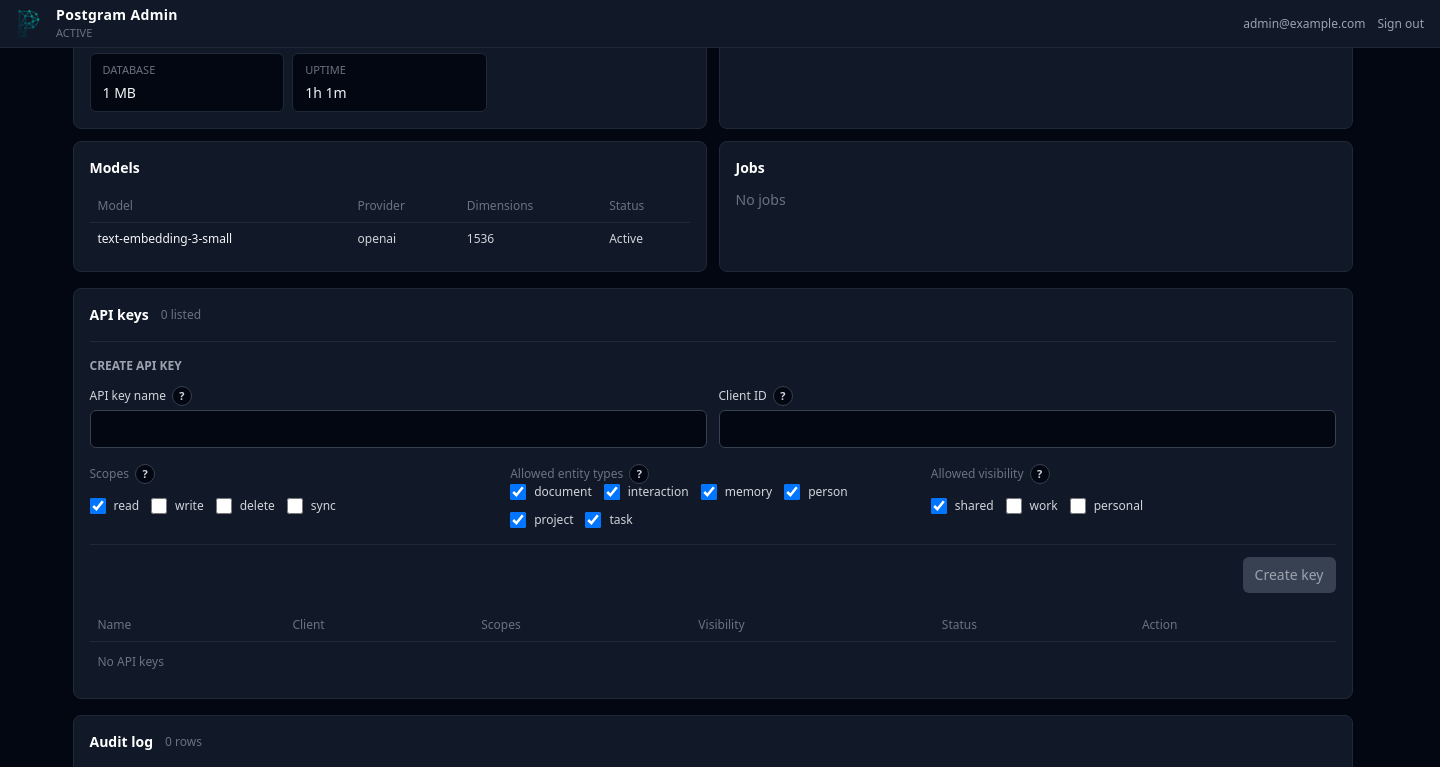
Test case: Admin operations dashboard › uses the existing step-up flow when key creation requires recent admin step-up
(page scrolled)
Type "admin-beta" into the field labelled "API key name". click: (398, 428)
box: [90, 410, 706, 448]
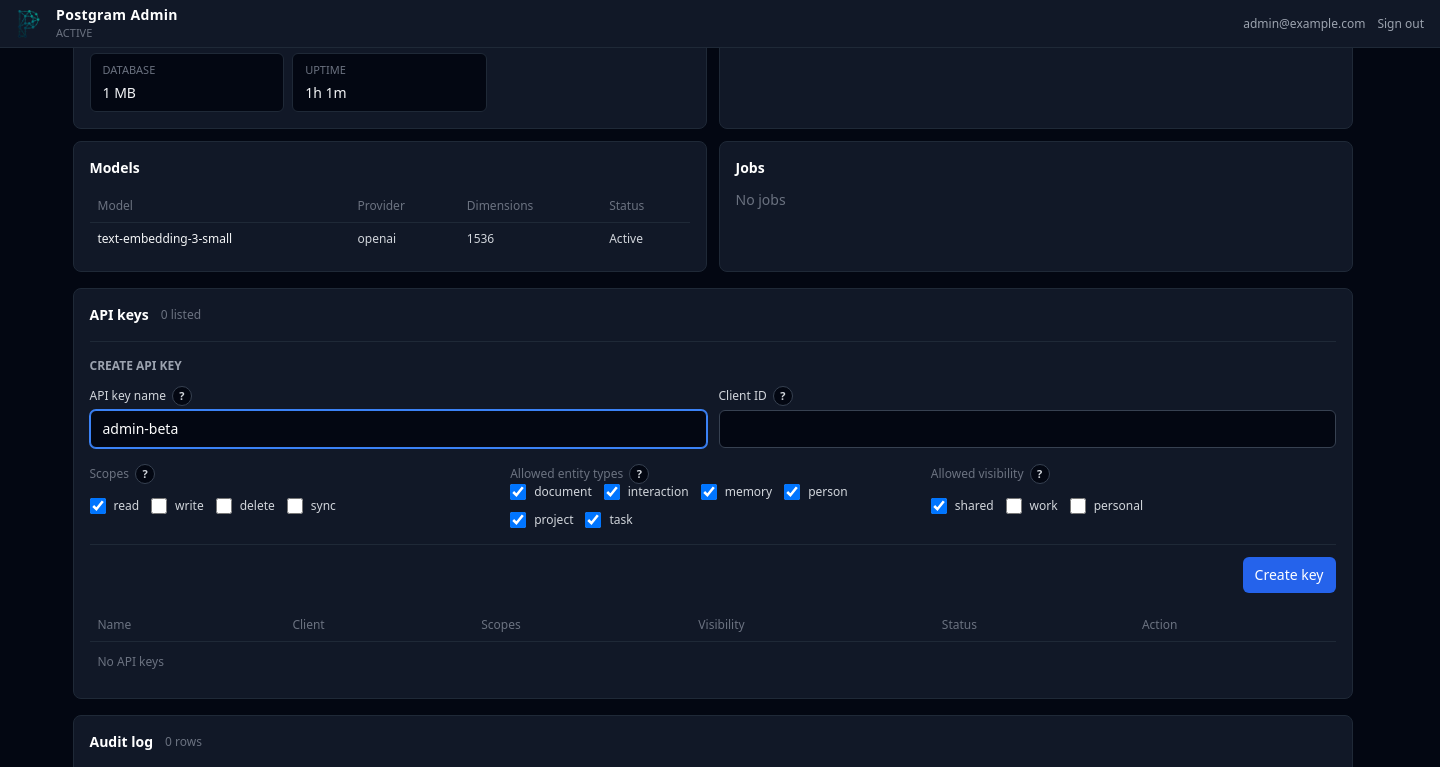
Click the button "Create key". click: (1289, 574)
box: [1243, 556, 1336, 592]
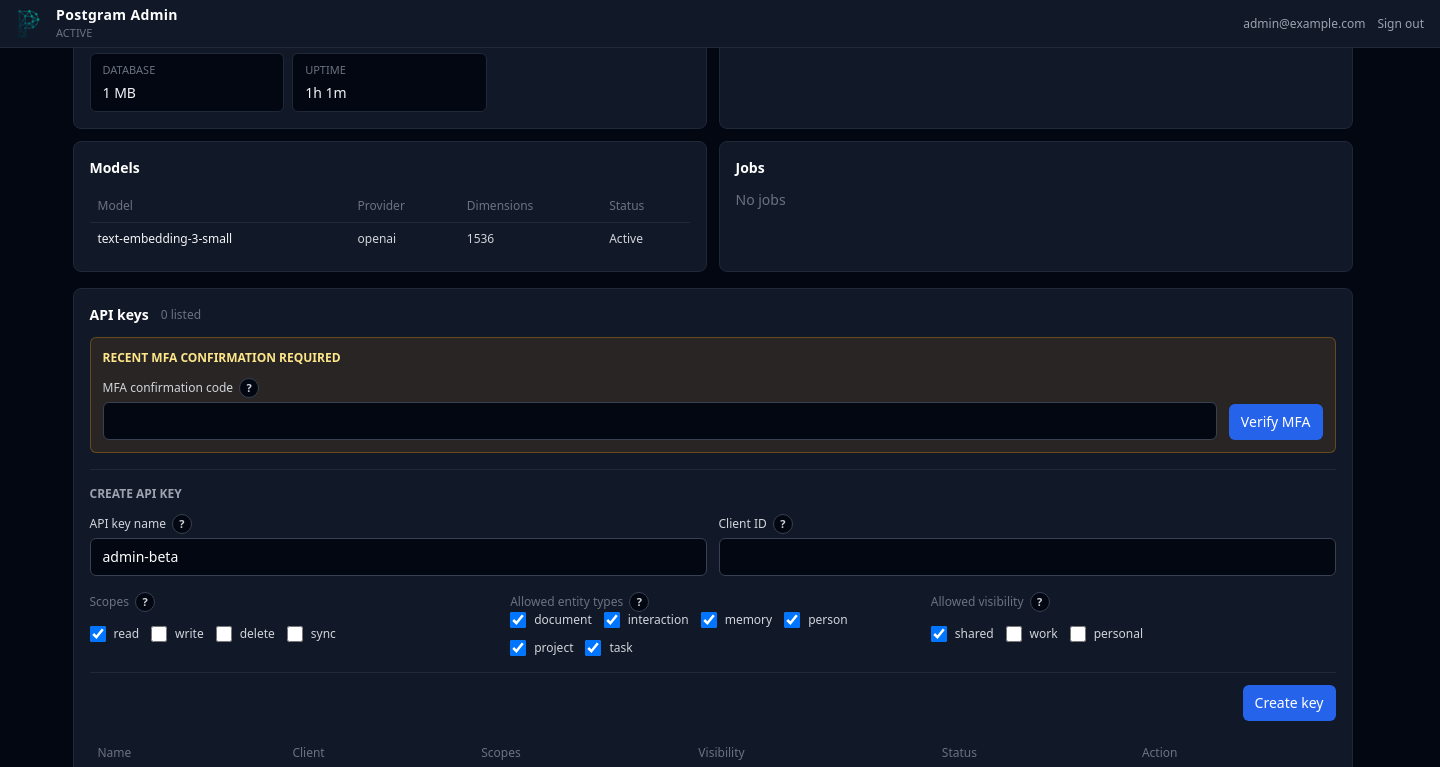
Now the text "Recent MFA confirmation required" is shown, box [102, 348, 340, 366]
Type "123456" into the field labelled "MFA confirmation code". click: (660, 420)
box: [102, 402, 1217, 440]
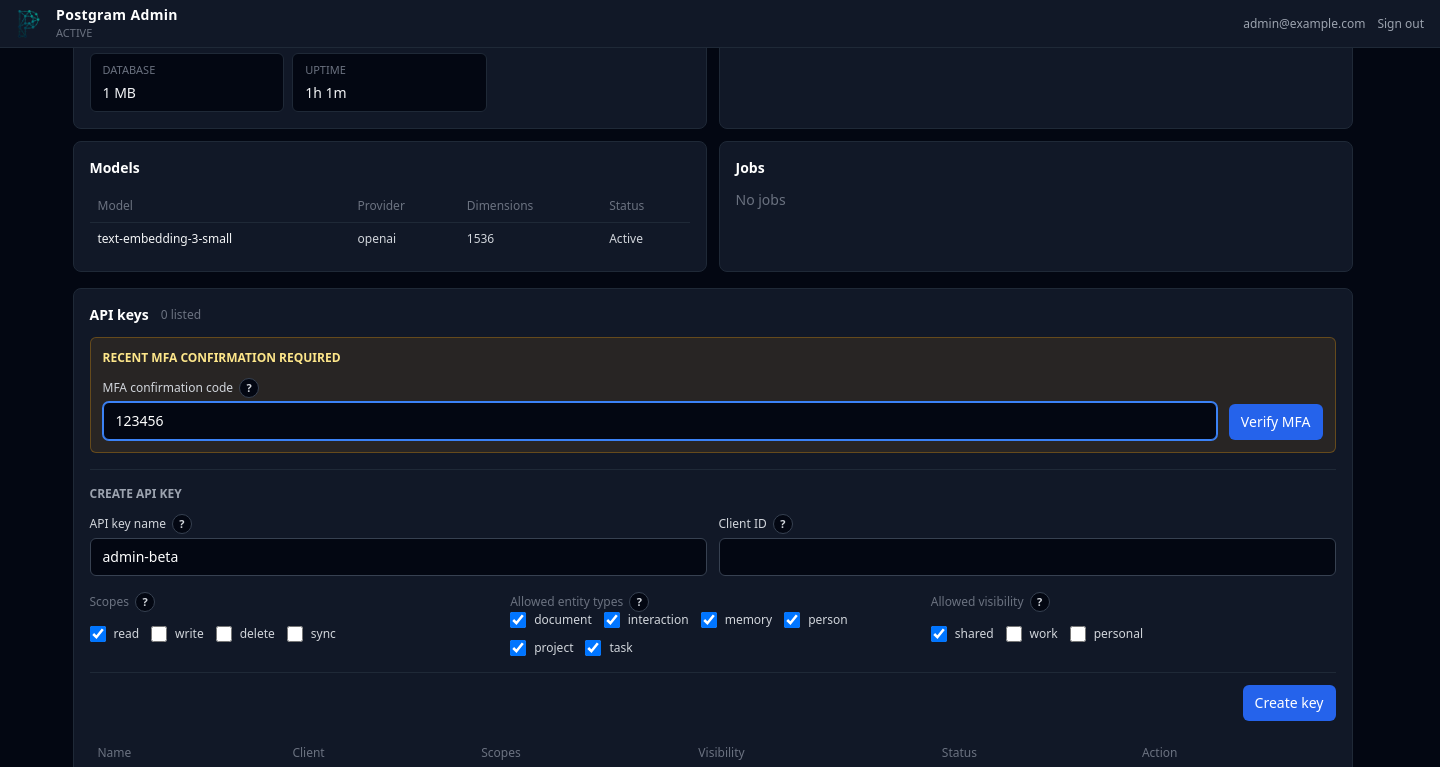
Click the button "Verify MFA". click: (1276, 422)
box: [1229, 404, 1322, 440]
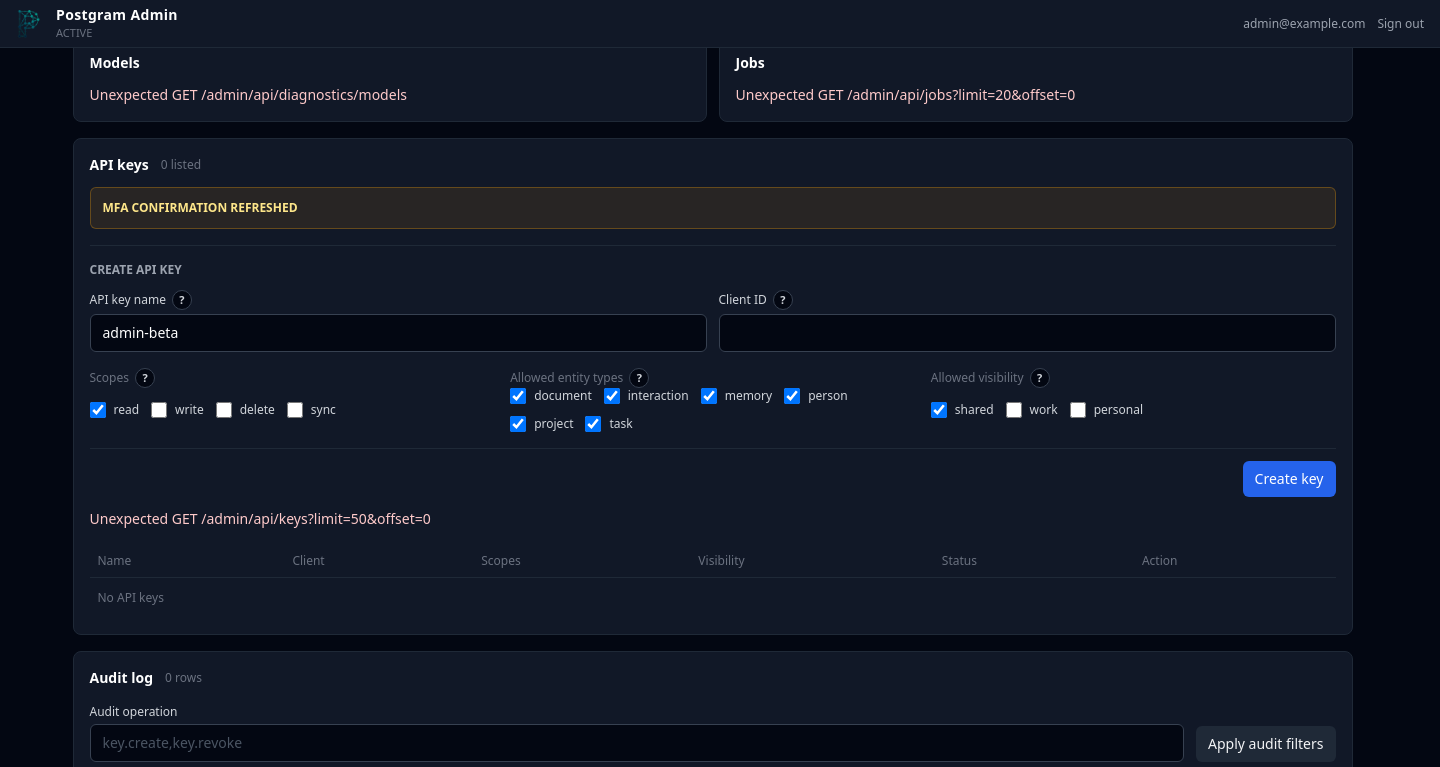
Now the text "MFA confirmation refreshed" is shown, box [102, 199, 298, 216]
Click the button "Create key". click: (1289, 479)
box: [1243, 461, 1336, 497]
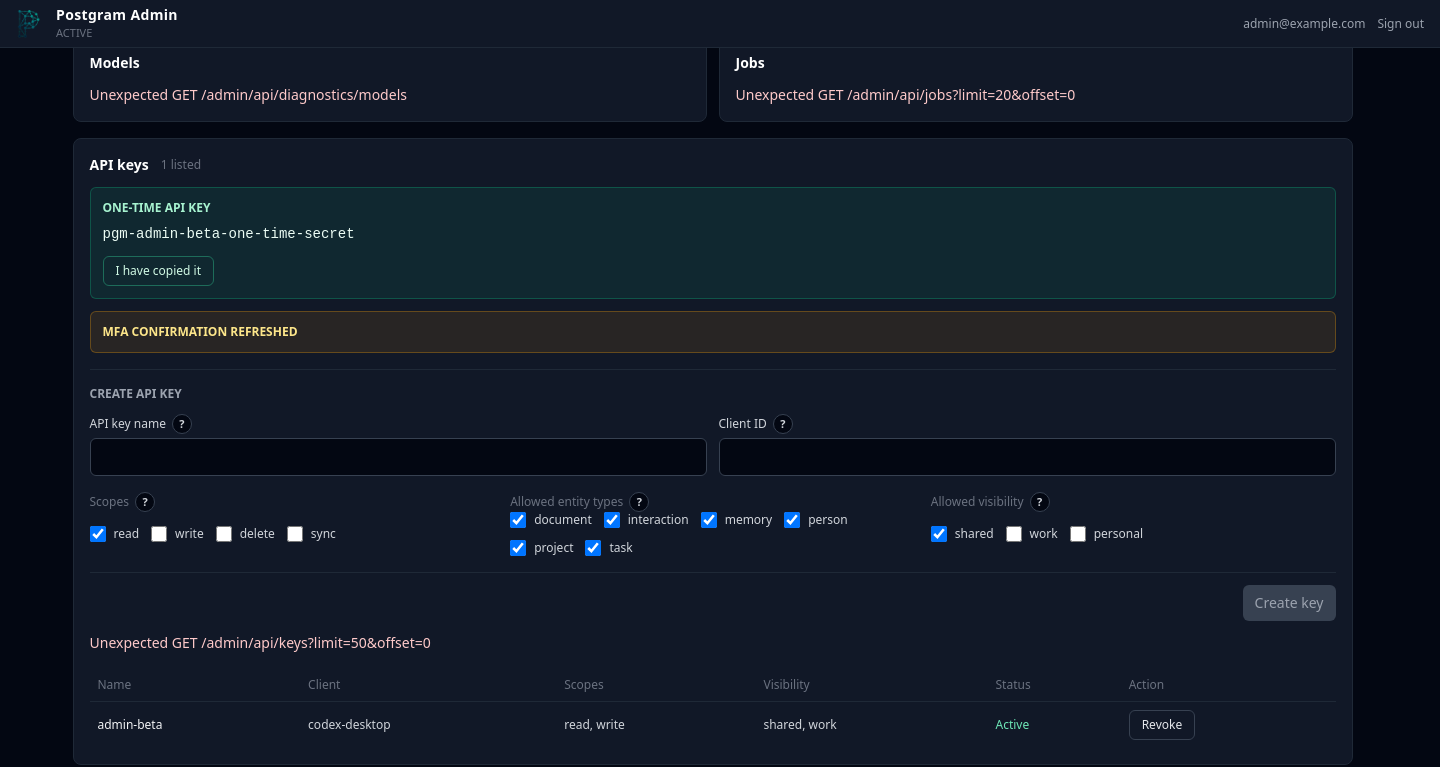
Now the text "pgm-admin-beta-one-time-secret" is shown, box [102, 226, 354, 242]
